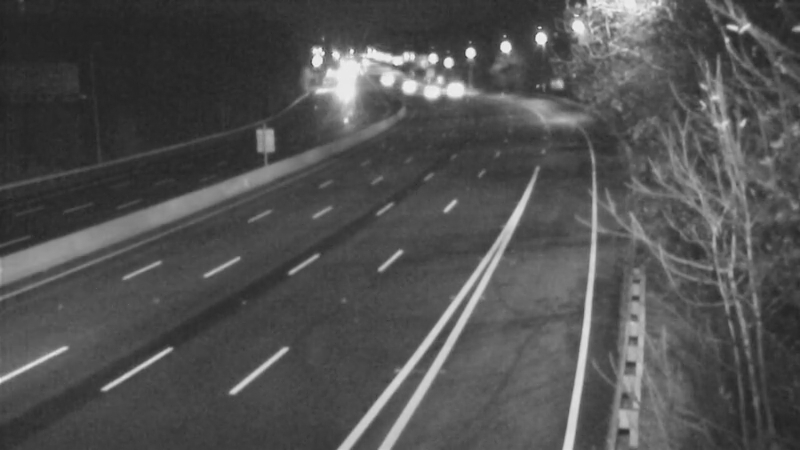vehicle: (359, 55, 409, 105), (379, 61, 429, 111), (403, 65, 453, 115), (430, 65, 480, 115)
